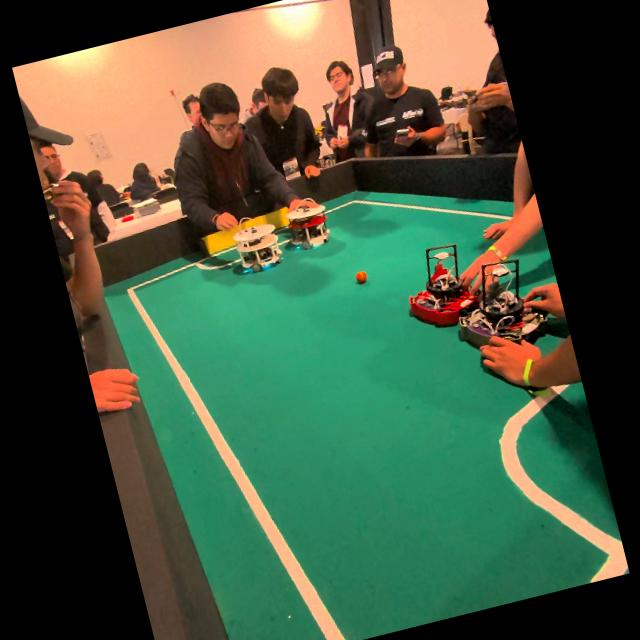ball: (354, 271, 366, 284)
robot: (456, 258, 551, 350), (408, 244, 476, 325), (232, 224, 280, 272), (285, 205, 328, 249)
